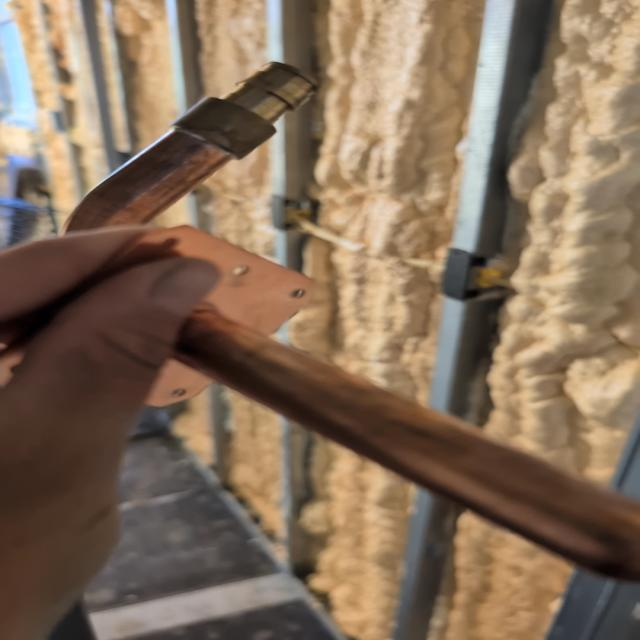wall_flange: (0, 45, 639, 594)
